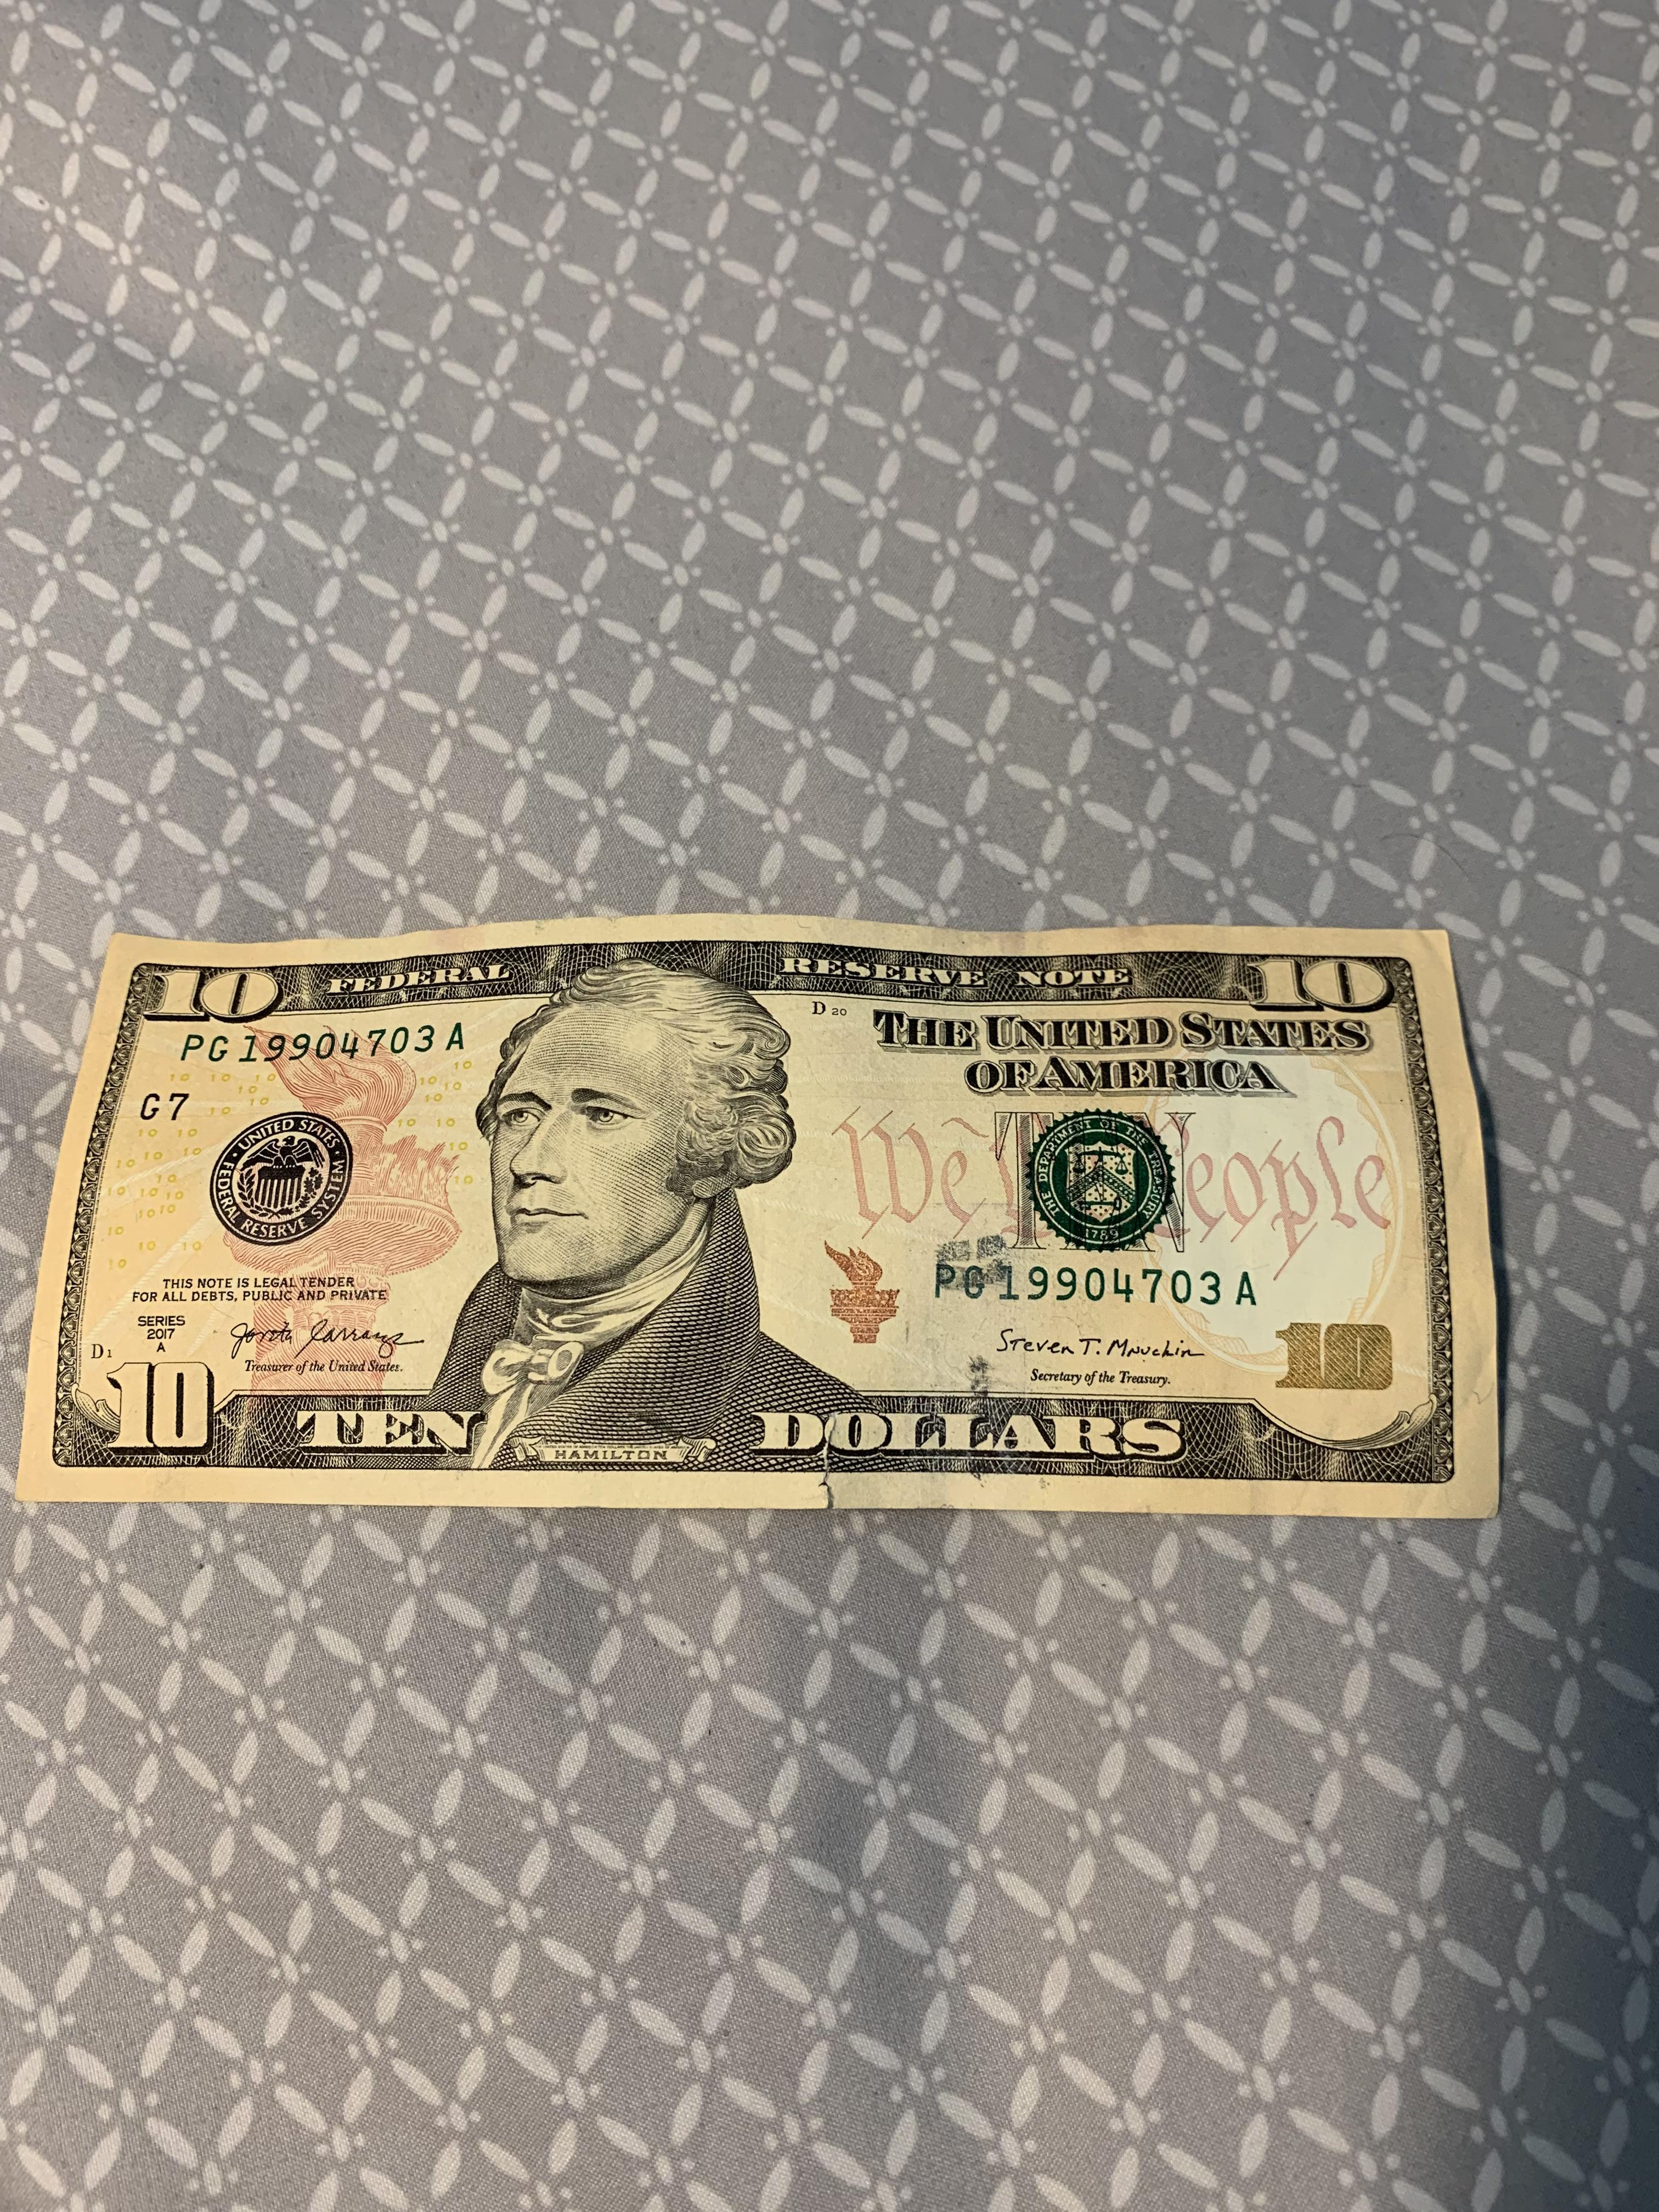TenBill: (5, 906, 1520, 1531)
